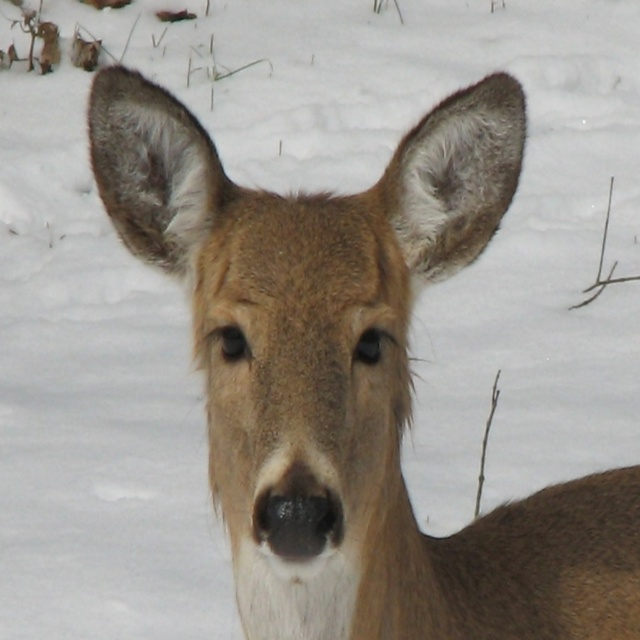Deer: (85, 62, 639, 639)
